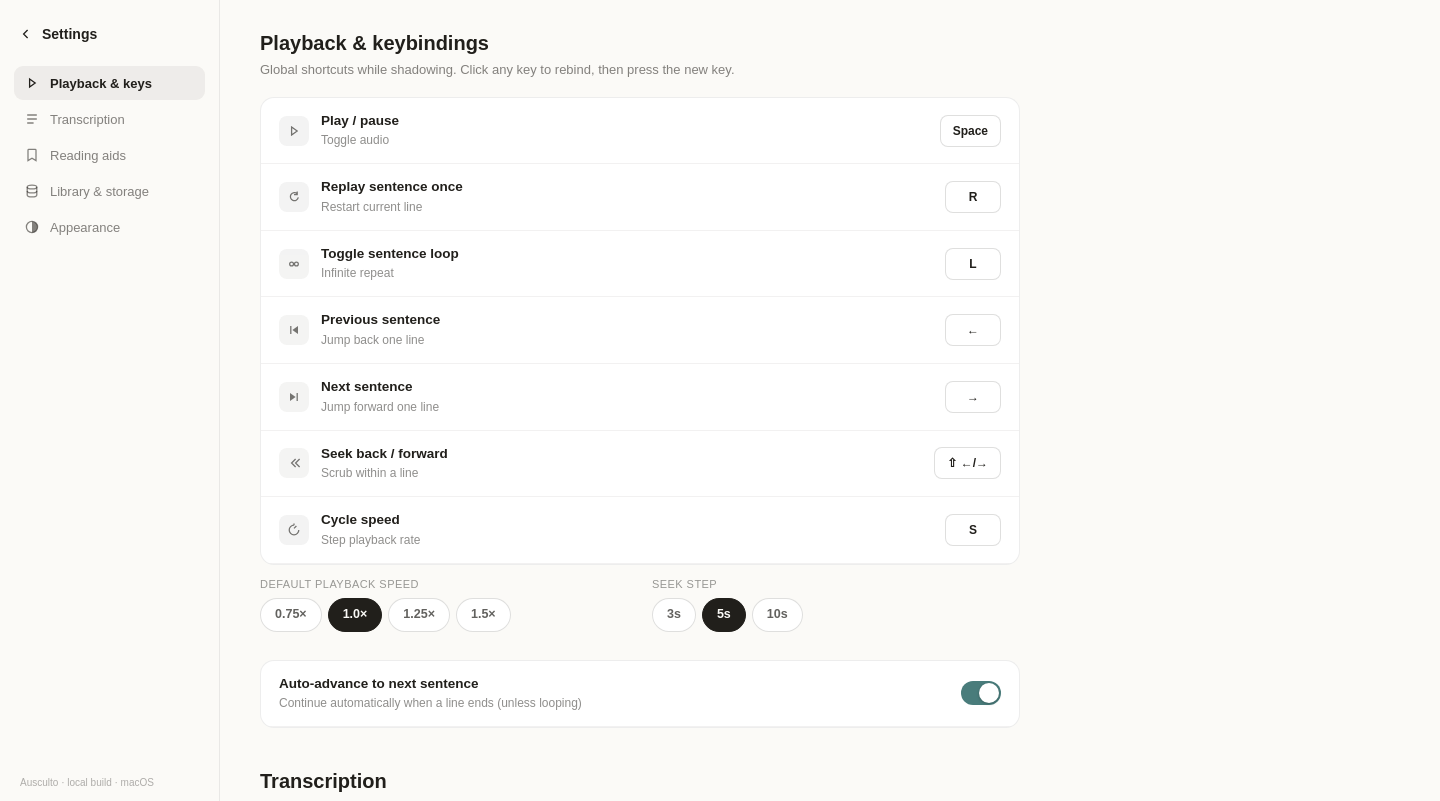
Test: Settings › cancels a rebind on Escape without changing the binding
Check: the heading "Playback & keybindings" is shown, box [260,32,489,54]
Click the button "R" at [973, 197], box [945,181,1001,213]
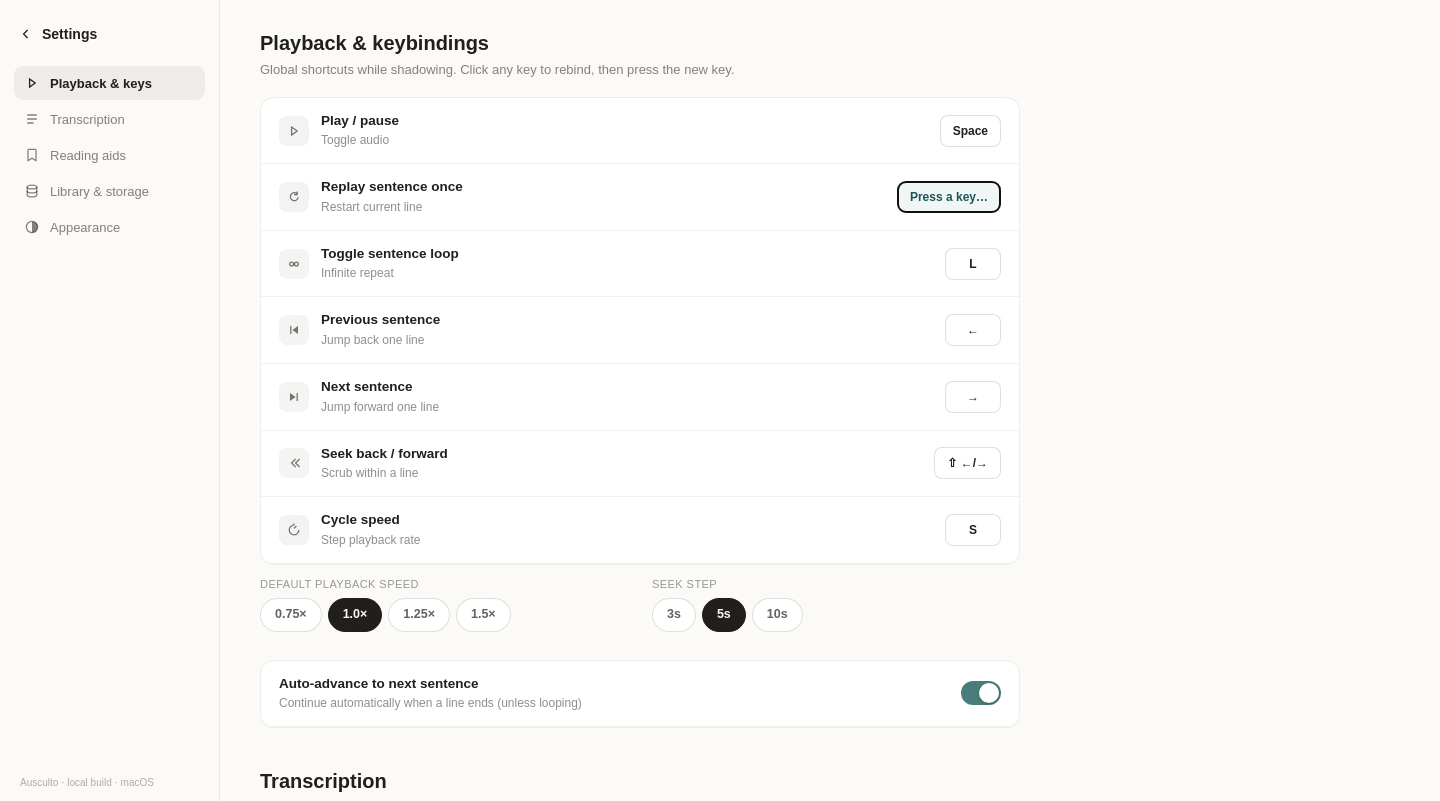
Check: the button "Press a key…" is shown, box [897,181,1001,213]
Press Escape
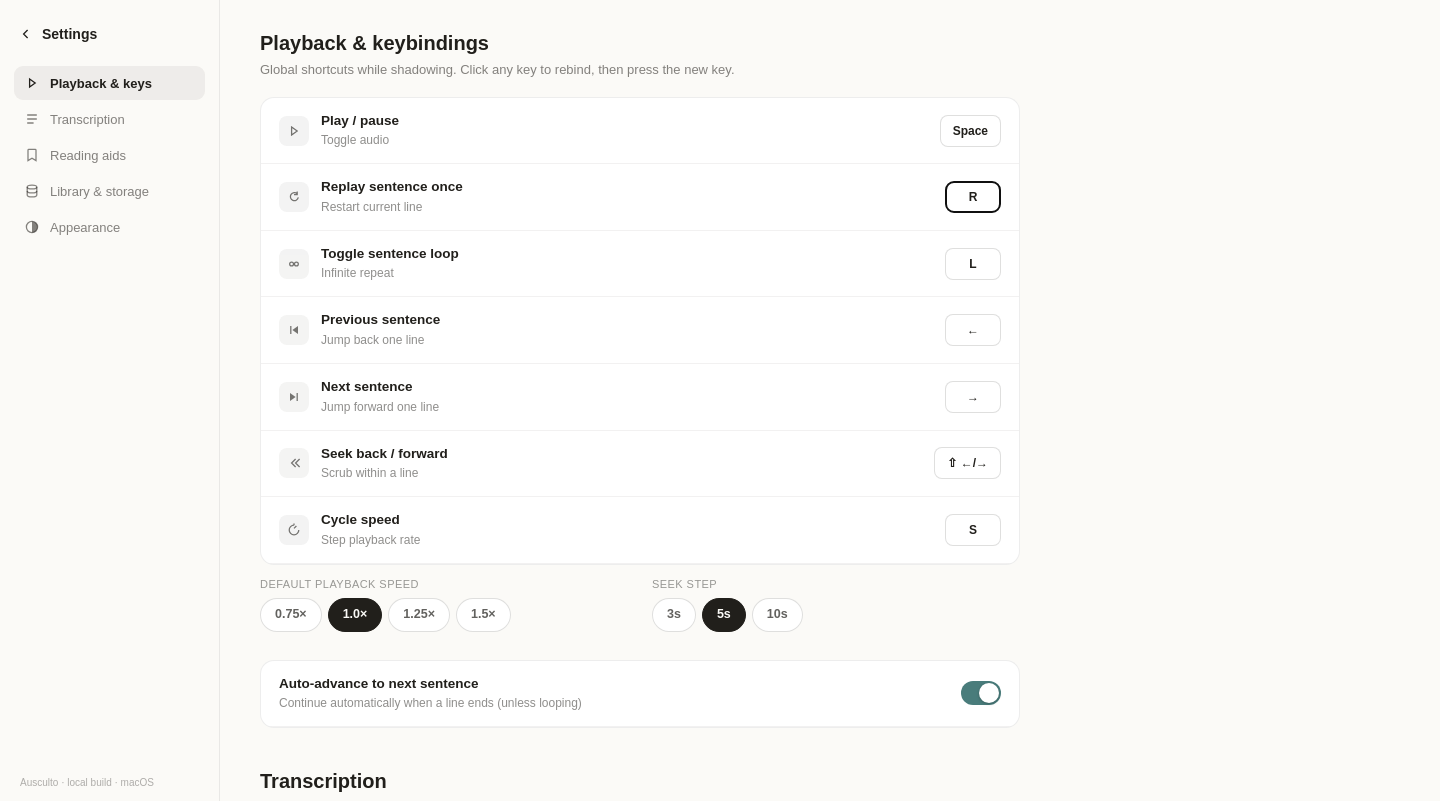
Check: the button "R" is shown, box [945,181,1001,213]
